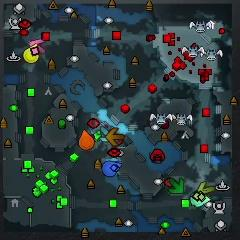p1: (102, 161, 122, 176)
p2: (190, 192, 210, 207)
p4: (23, 43, 38, 64)
p5: (79, 129, 94, 150)
x1: (28, 38, 45, 53)
x2: (198, 182, 214, 194)
x3: (100, 125, 109, 141)
x4: (169, 178, 184, 193)
x5: (107, 127, 124, 145)
